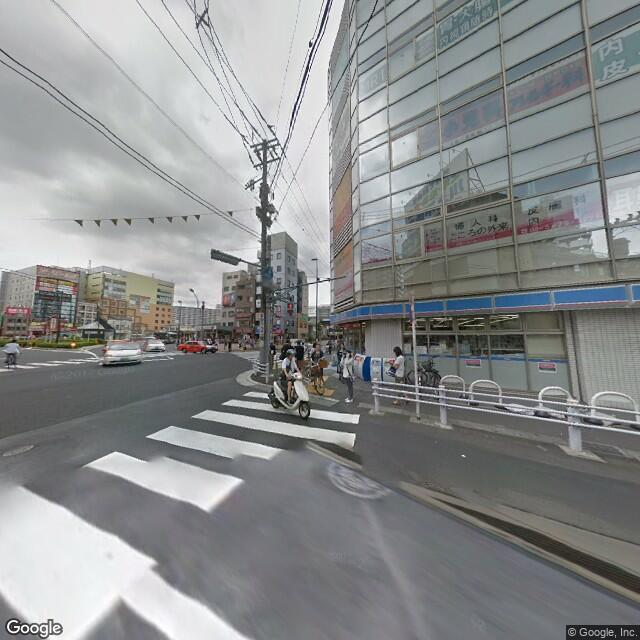lawson: (332, 281, 638, 326)
